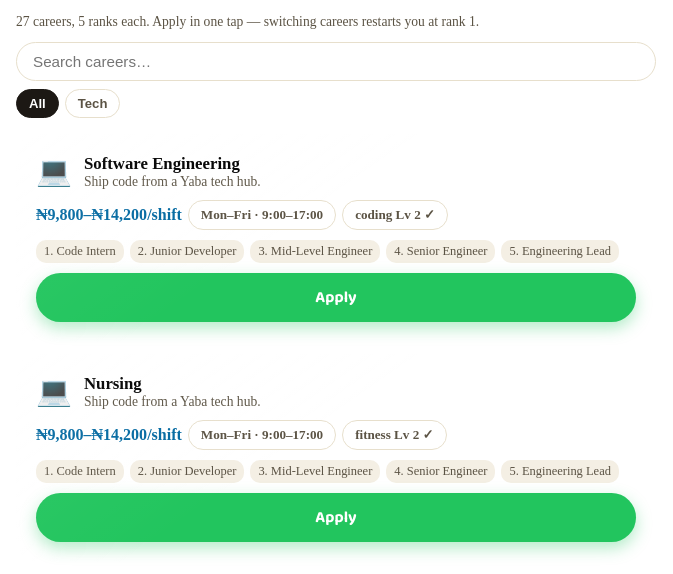
Test: CareersBrowser › filters by search query
Expected: the text "Software Engineering" is shown, [84,154,261,174]
Type "nurs" into the search field labelled "Search careers".
click(336, 62); type("nurs")  # box [16,42,656,81]
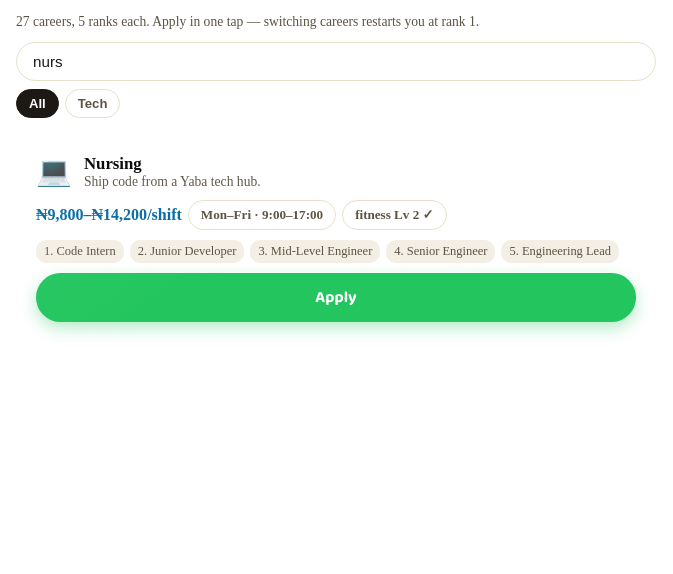
Expected: the text "Nursing" is shown, [84,154,142,173]
Now the text "Software Engineering" is gone
